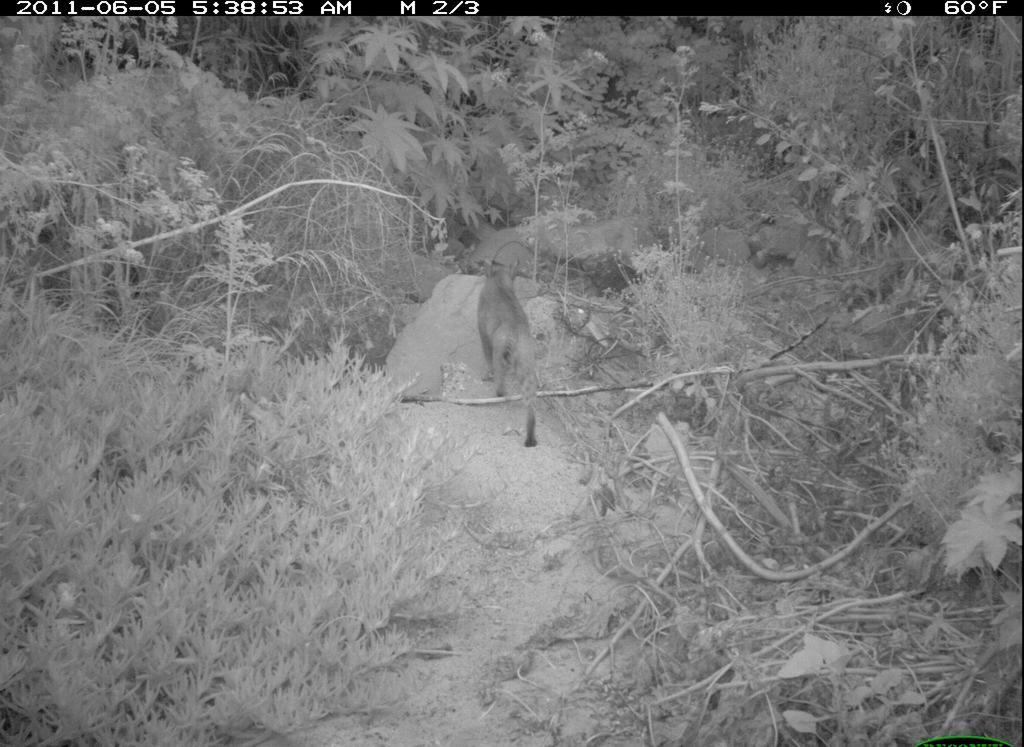bobcat: (472, 245, 560, 465)
